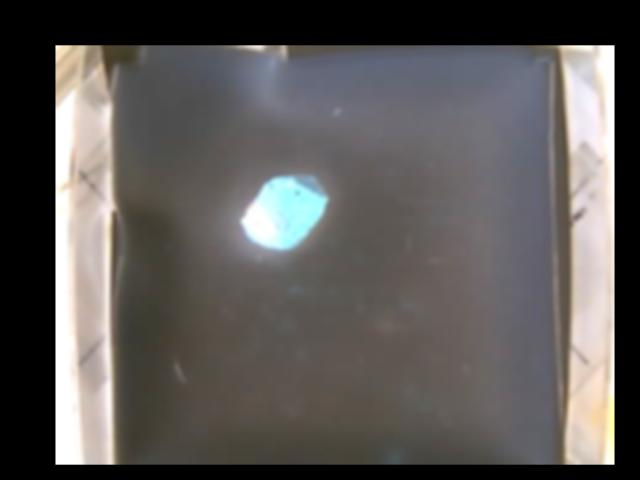Brisk: (240, 176, 325, 251)
